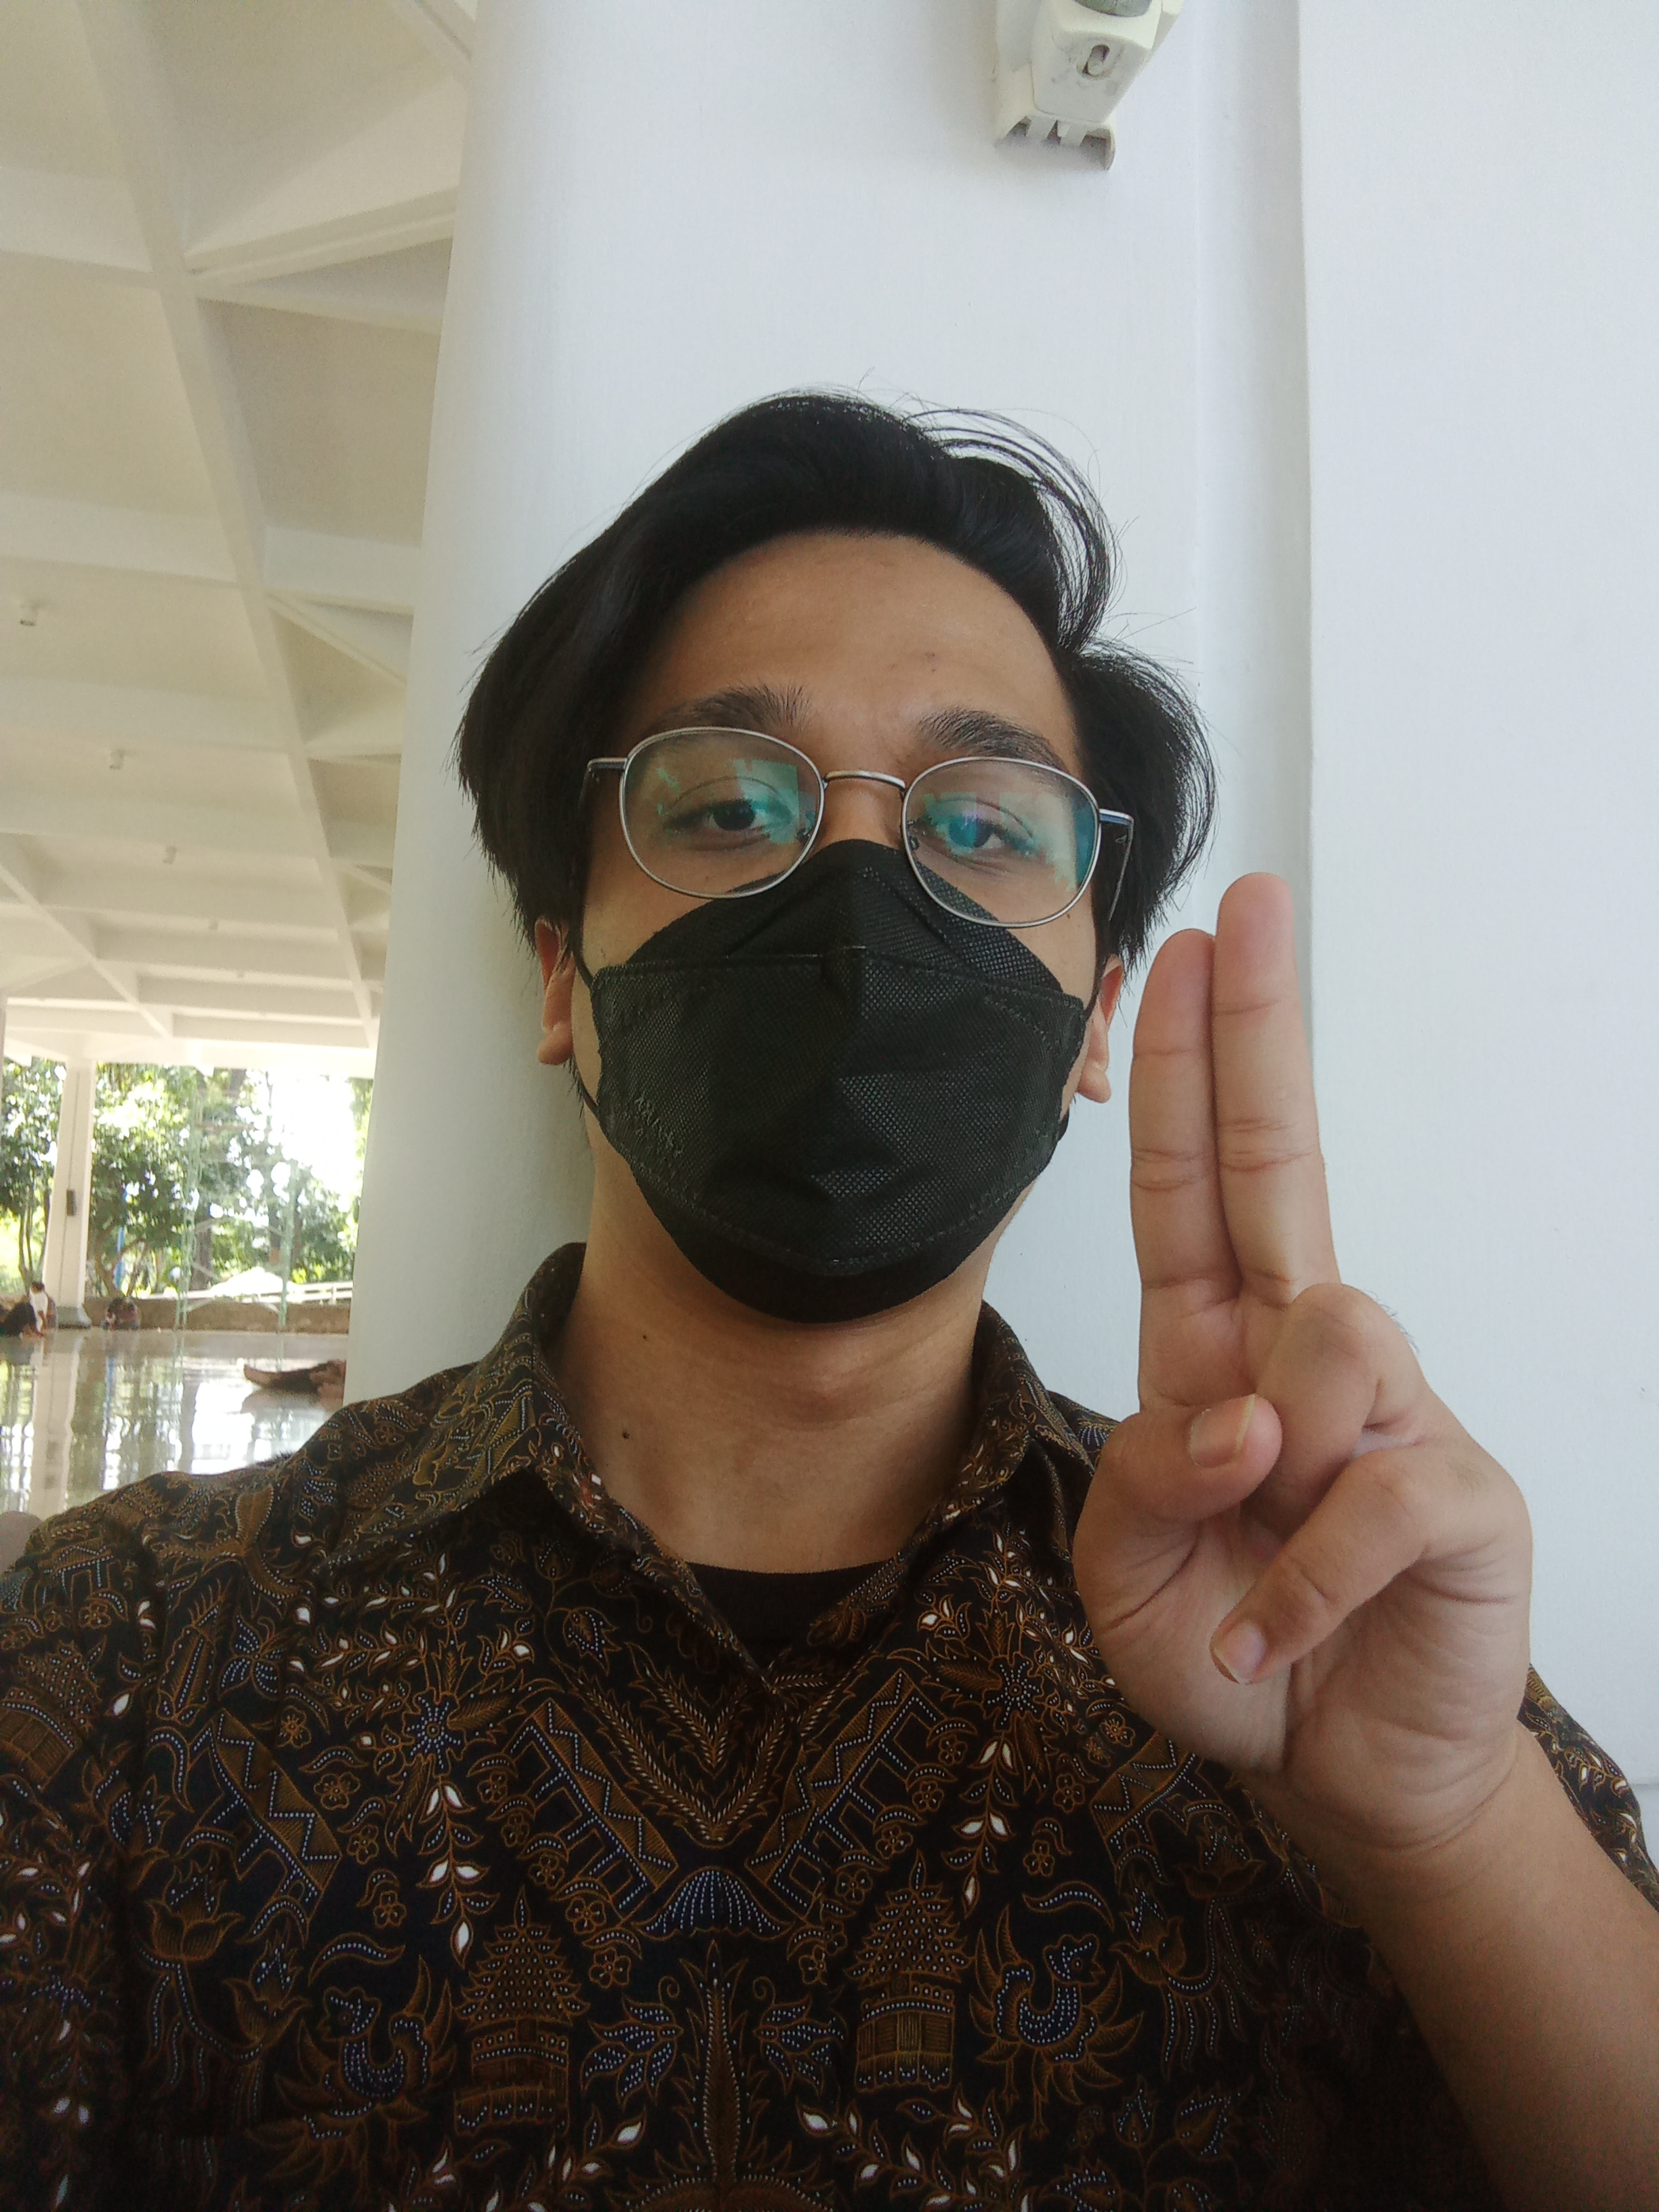U: (1033, 846, 1595, 1888)
